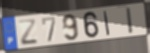6: (82, 11, 101, 41)
7: (40, 16, 58, 44)
9: (61, 13, 80, 42)
I: (125, 6, 135, 35), (103, 11, 111, 37)
Z: (17, 19, 39, 47)
